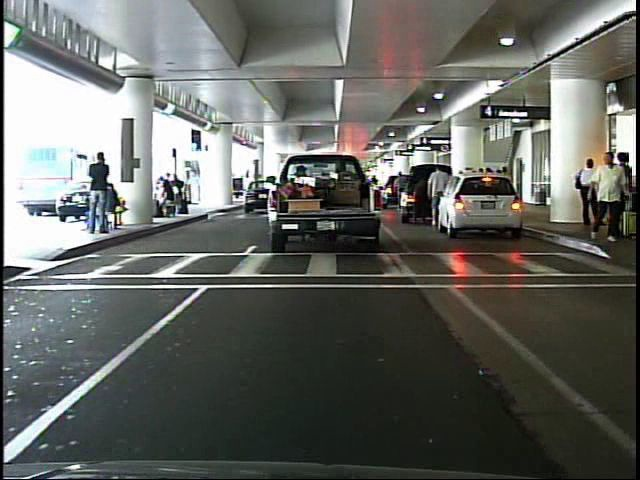person: (584, 144, 625, 246), (575, 152, 613, 235), (89, 145, 117, 234), (591, 152, 616, 241), (423, 161, 450, 232), (188, 166, 202, 208)
